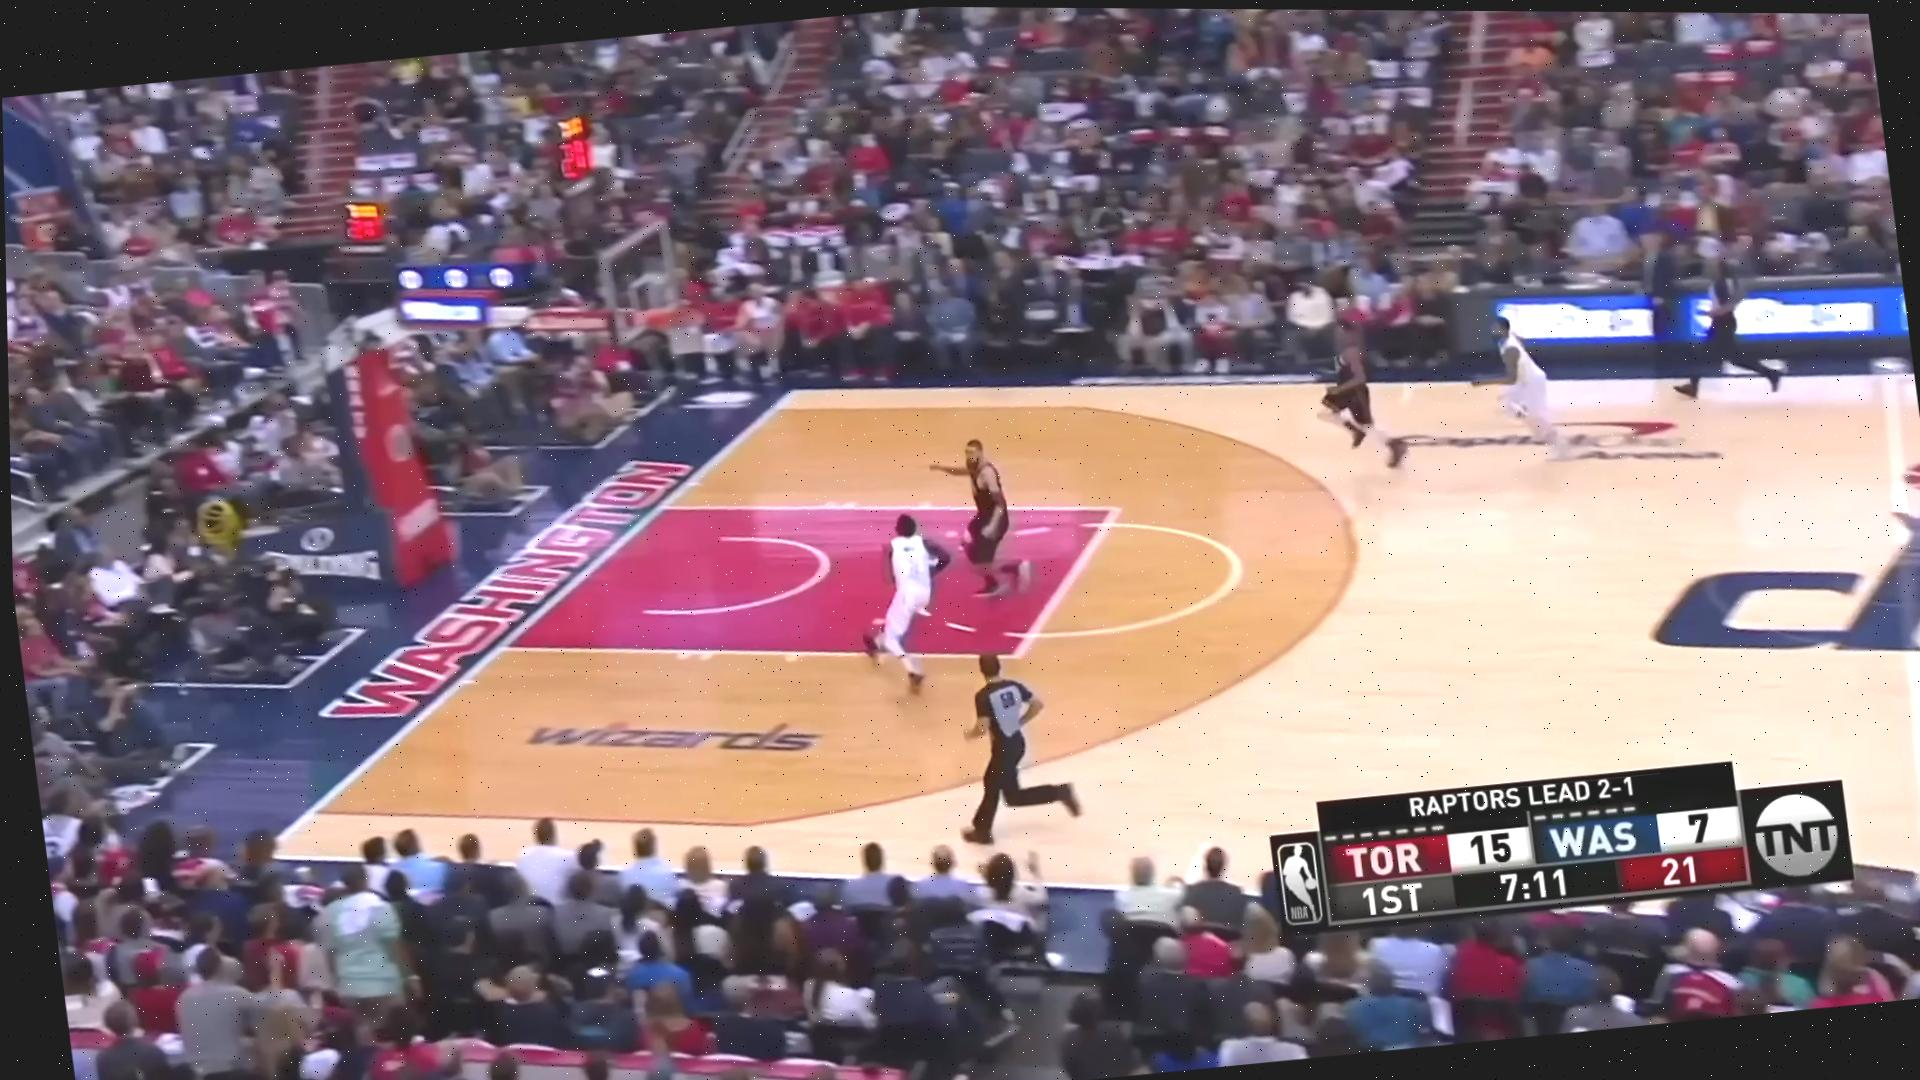no_foul: (819, 413, 1079, 674)
